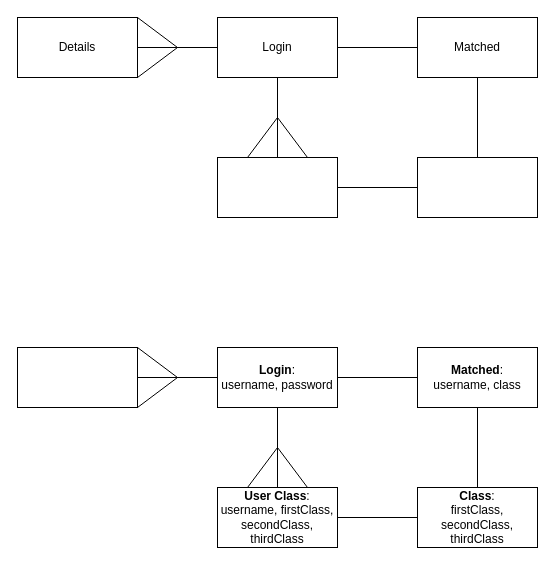
This 555x565 diagram has some shape labels left out. The shapes that lost their labels are listed below. From the top down, each one's centre as x and y in pixels, then its label:
At pixel 277 187: "User Class".
At pixel 477 187: "Class".
At pixel 77 377: "Details : username, age, gender, height, weight".
